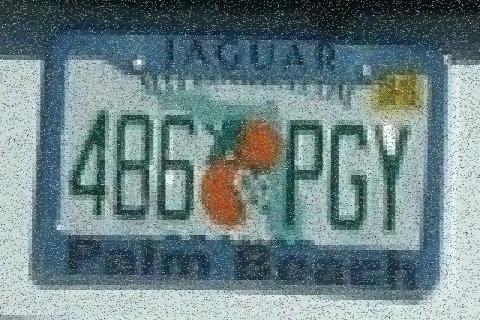LicensePlate: (38, 19, 460, 293)
